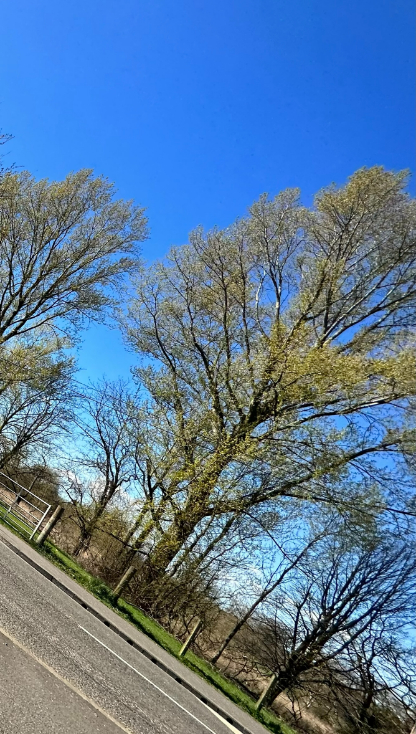tree: (118, 150, 416, 596), (0, 171, 198, 444), (245, 551, 416, 706)
